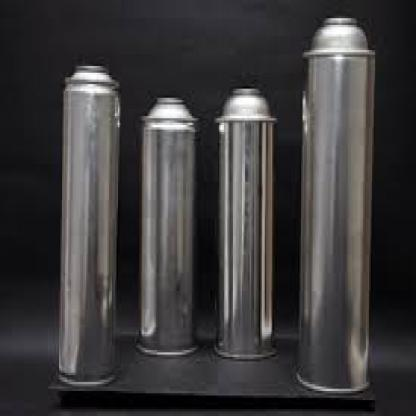Compsot: (295, 14, 368, 391), (62, 64, 120, 384), (213, 86, 274, 360), (139, 95, 195, 357)
